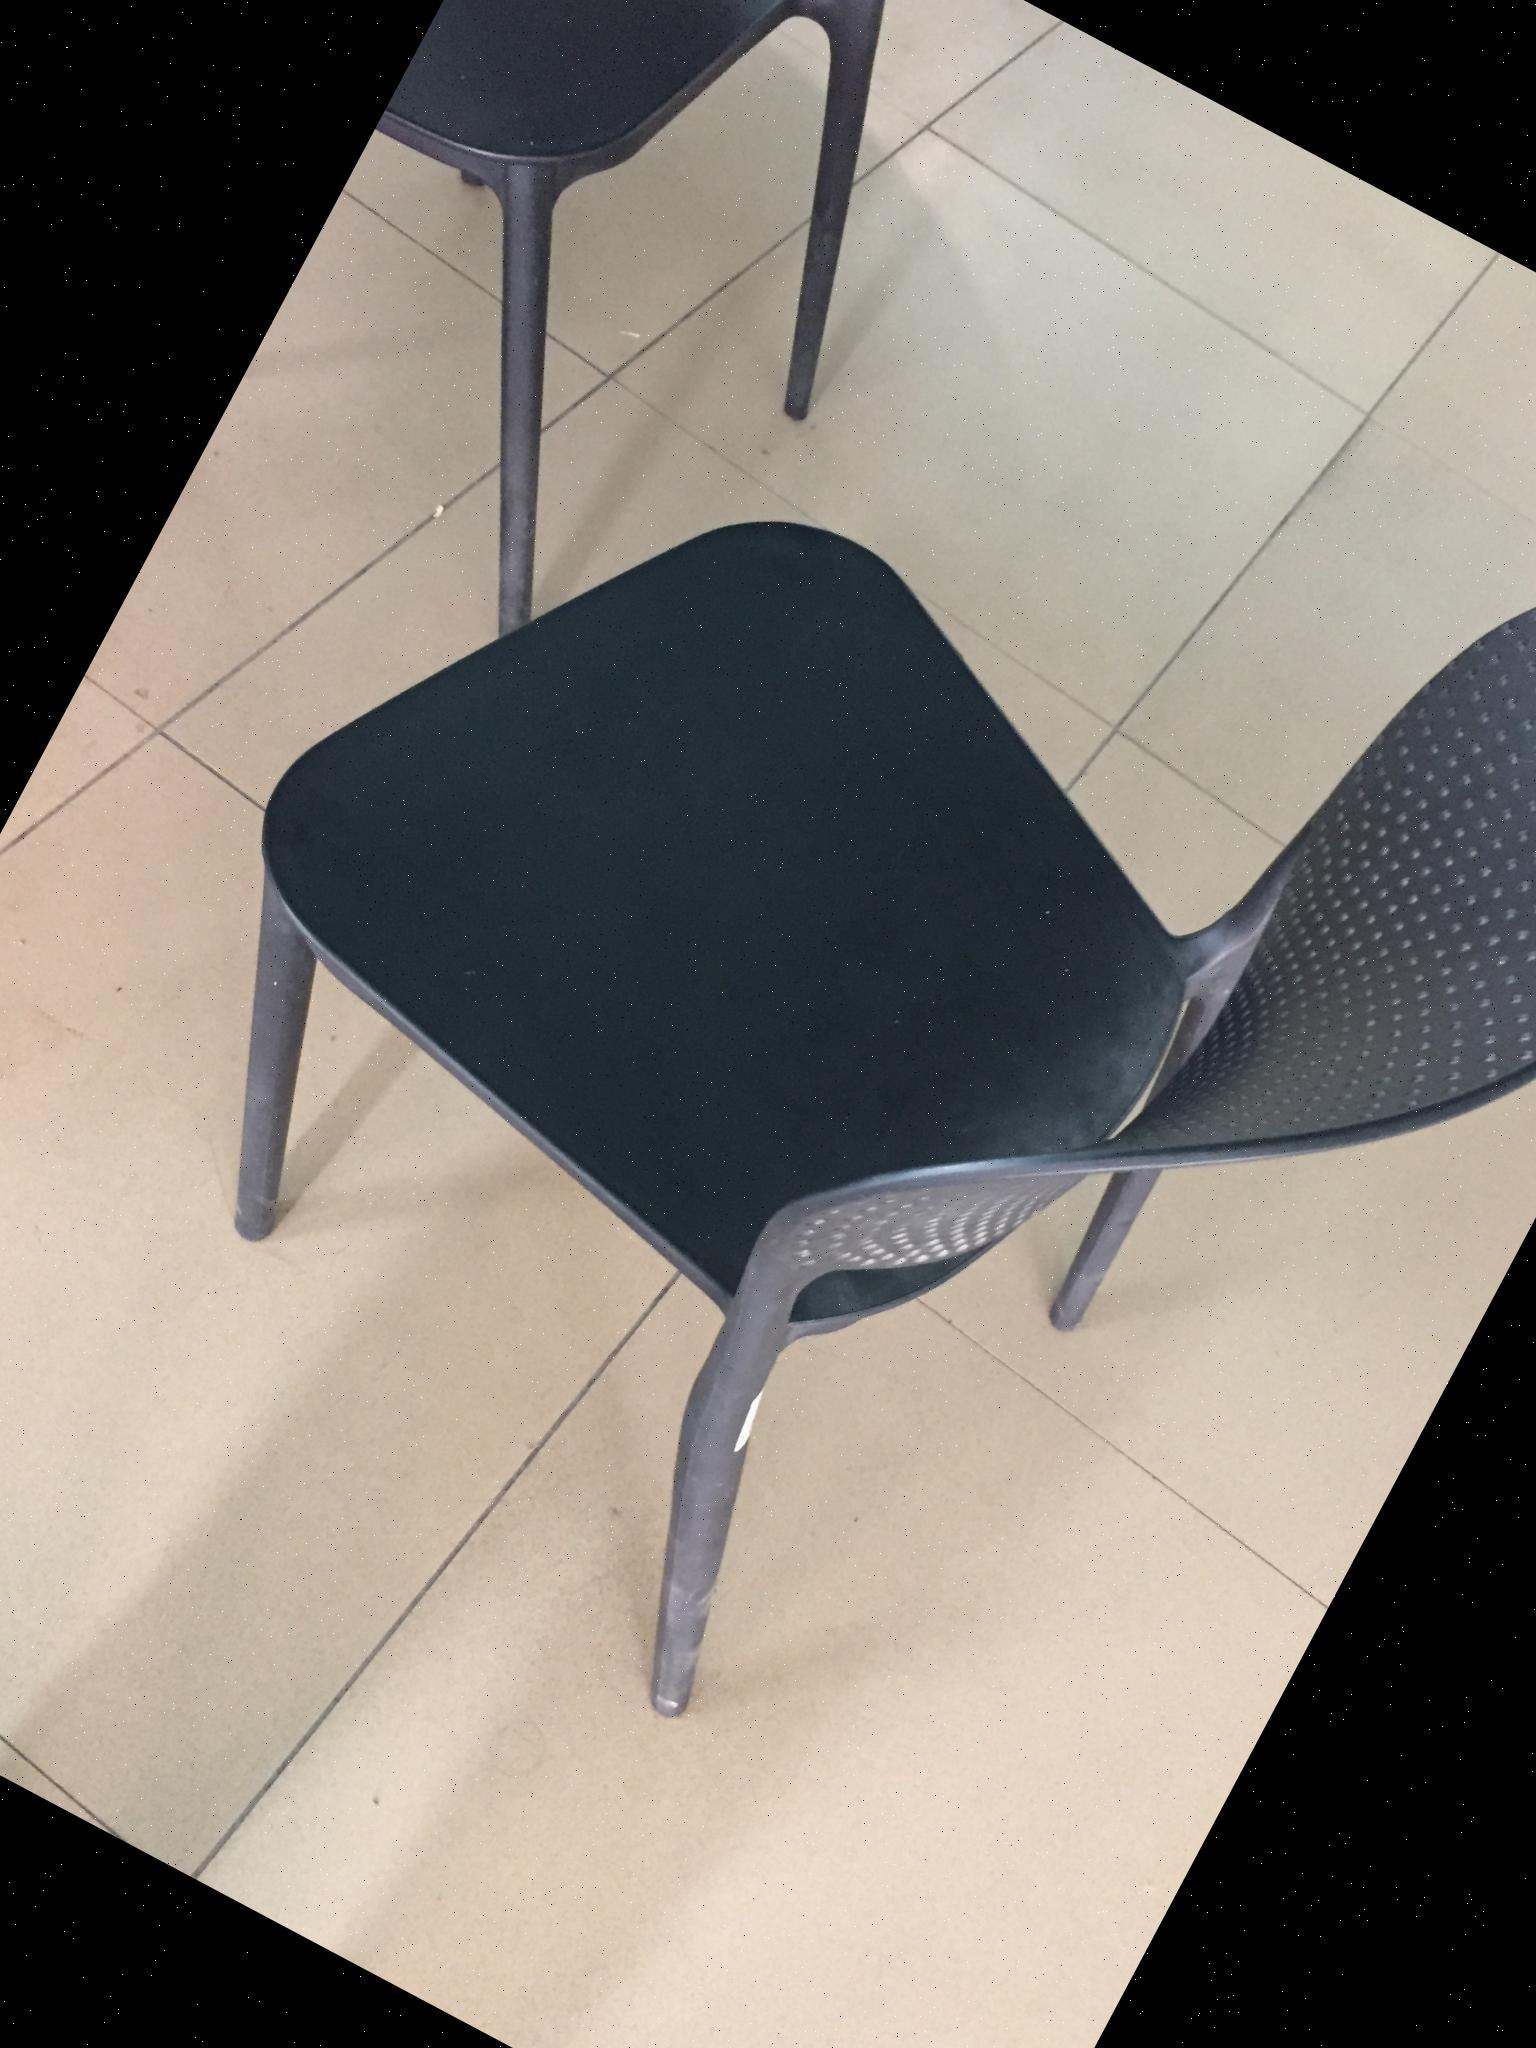chair: (0, 48, 1536, 1967), (190, 0, 1028, 718)
